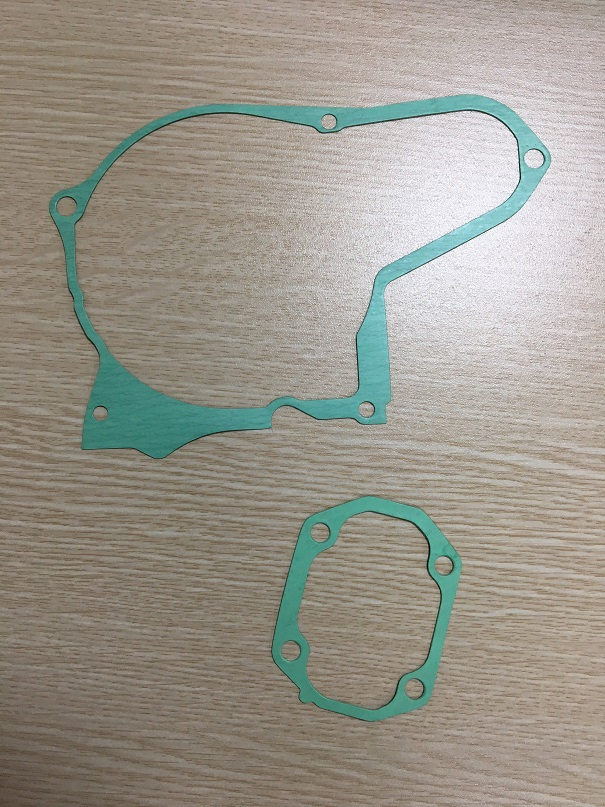type1: (43, 82, 558, 467)
type2: (267, 487, 469, 730)
